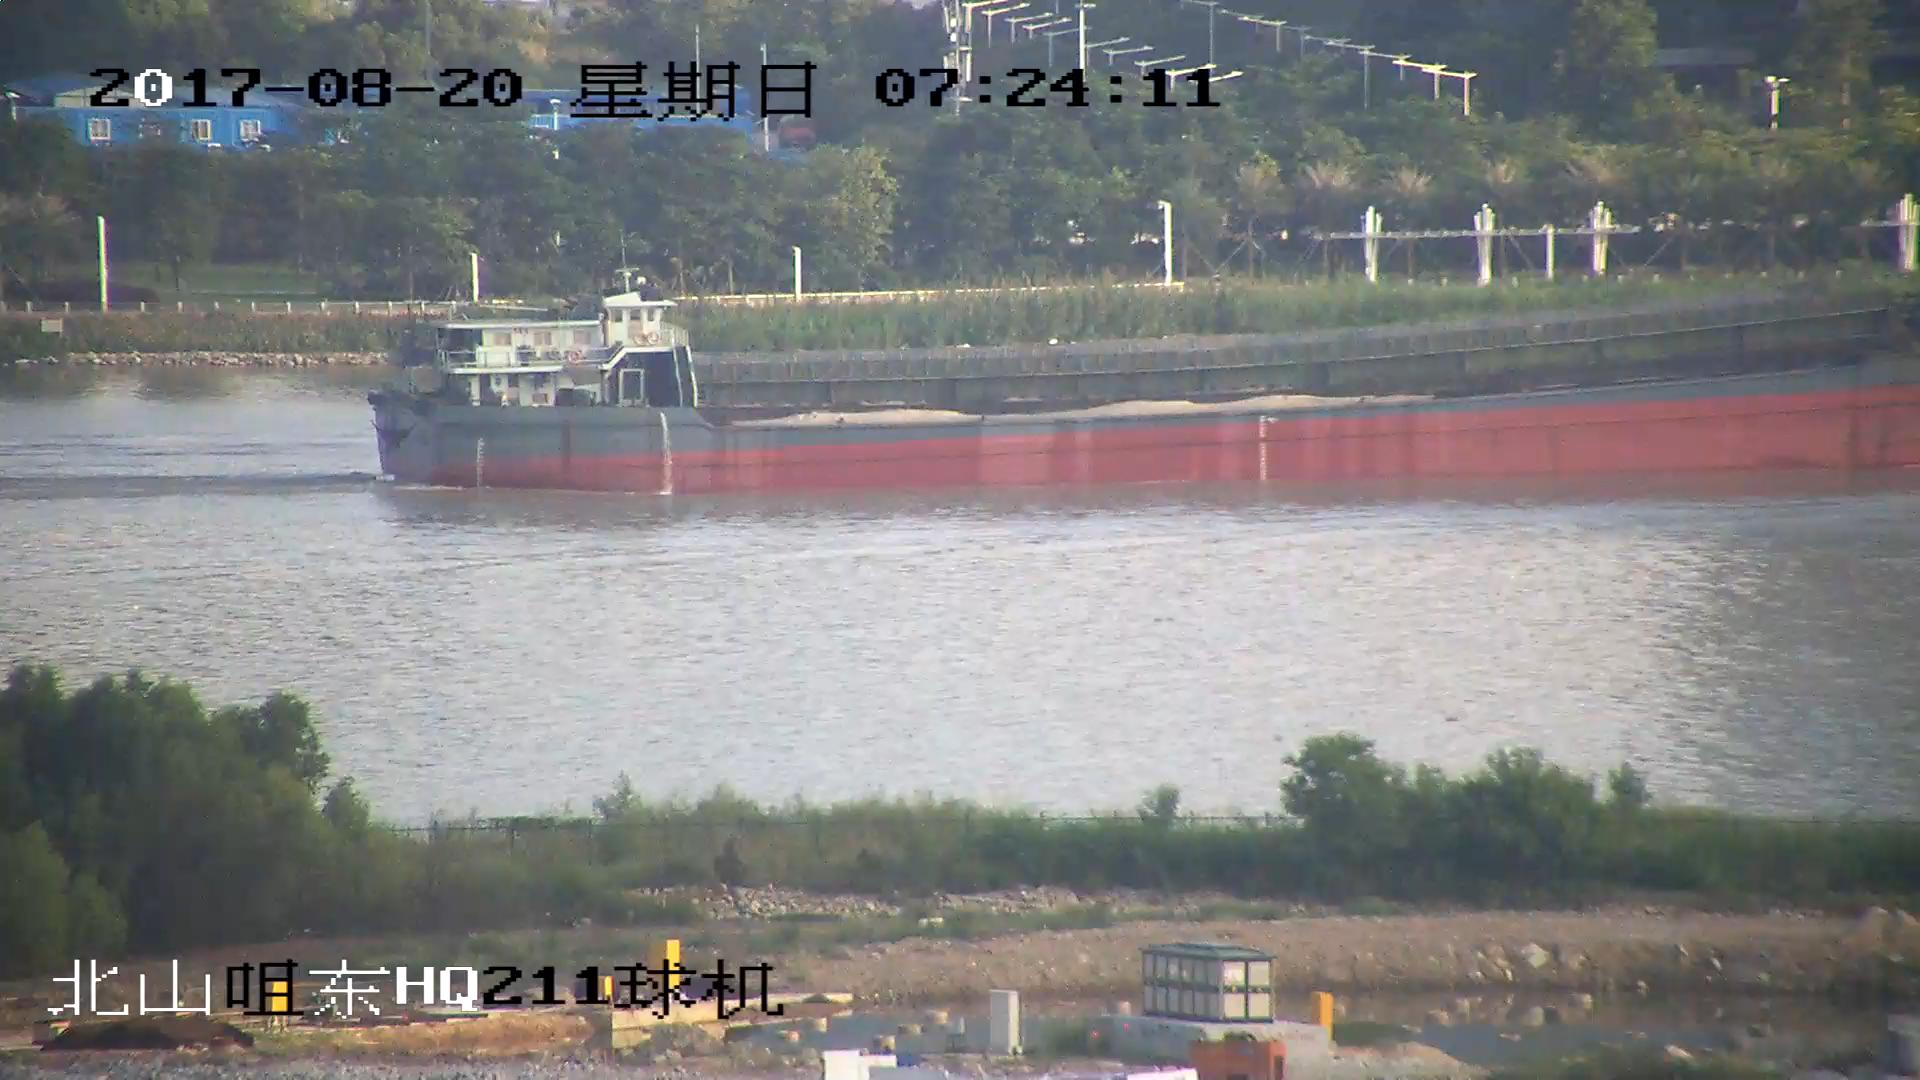bulk cargo carrier: (365, 259, 1920, 495)
